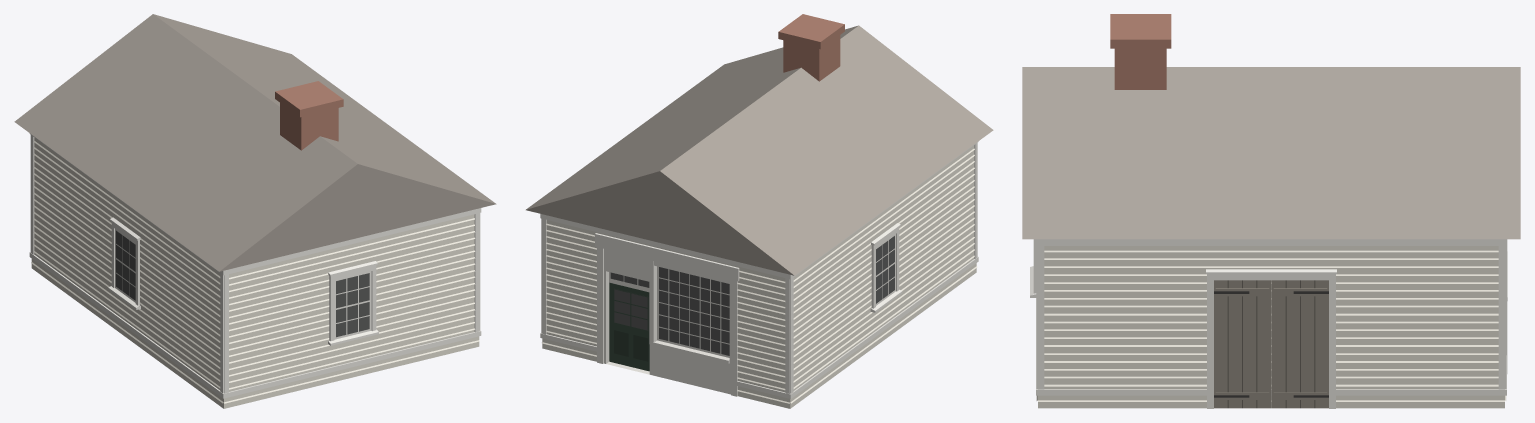
Rendered from recon_1835_core_c1_039__inferred_1835.glb.
3 renders of one model, left to right at view 1: azimuth 30°, elevation 25°; view 2: azimuth 150°, elevation 25°; view 3: azimuth 270°, elevation 25°, orthographic. The views are drawn at different scales.
Visible parts, largest first — view 1: recon_1835_core_c1_039__inferred_1835; view 2: recon_1835_core_c1_039__inferred_1835; view 3: recon_1835_core_c1_039__inferred_1835.
Boxes of the visible parts, bbox=[...] form: recon_1835_core_c1_039__inferred_1835: bbox=[14, 14, 496, 408]; recon_1835_core_c1_039__inferred_1835: bbox=[526, 14, 993, 408]; recon_1835_core_c1_039__inferred_1835: bbox=[1022, 14, 1520, 408].
Size of the model in its own units: 6.26 by 5.42 by 8.01.
